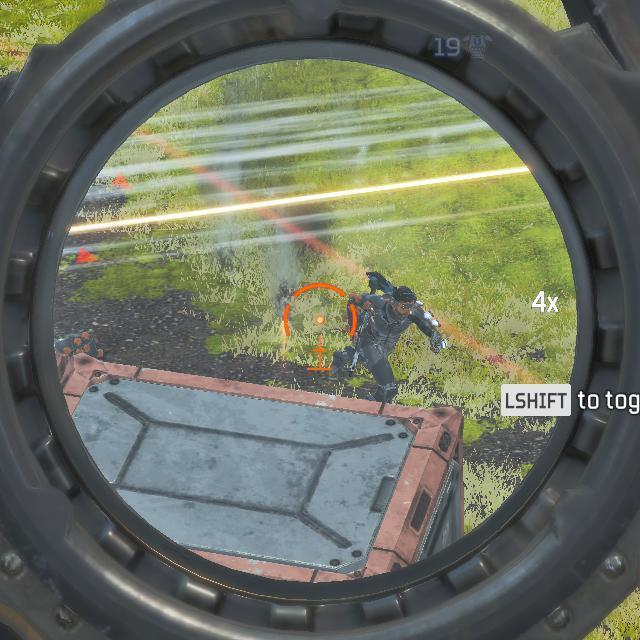avatar: (327, 268, 446, 404)
